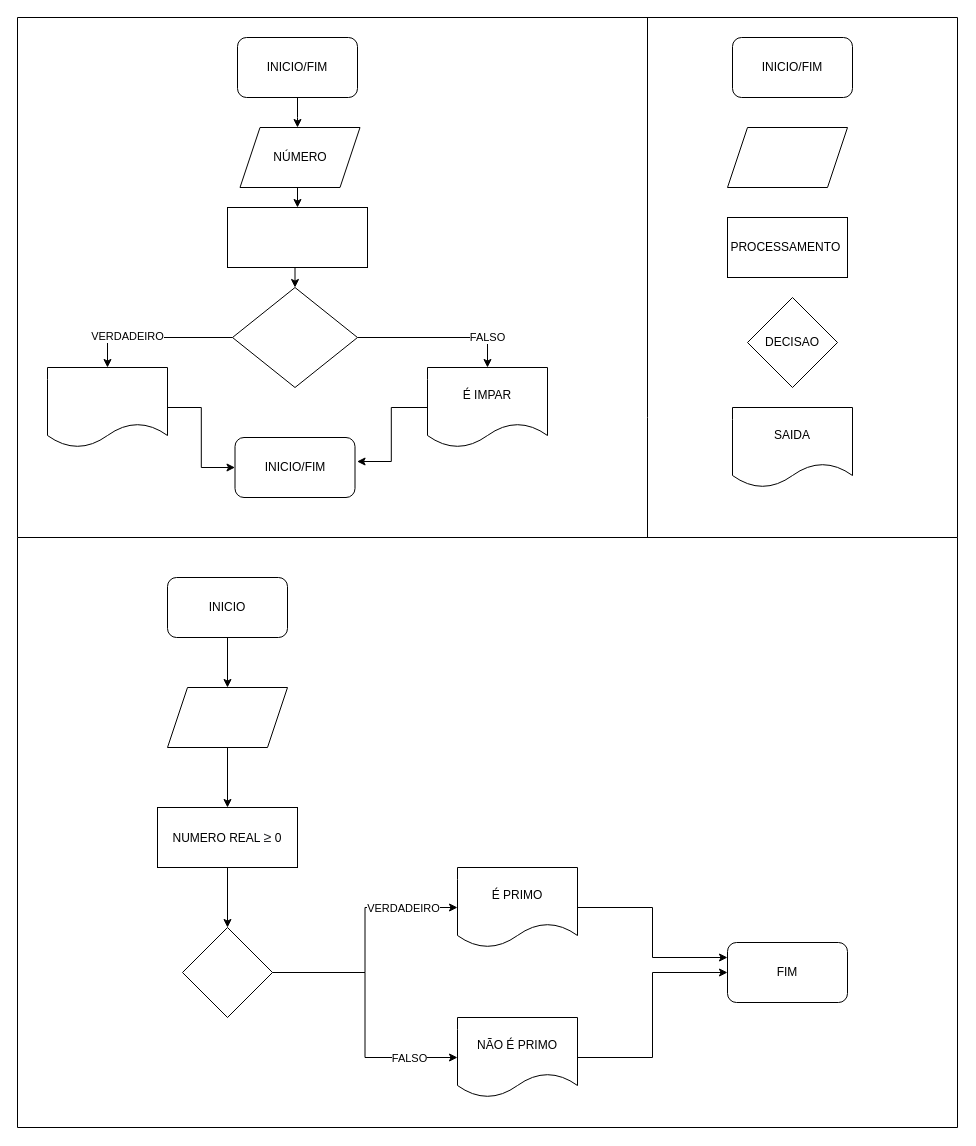
The diagram is 976 pixels wide and 1146 high, and some of its shapes have lost their labels. Here are the shapes that lost their labels. From the top down, the centre of each, then its label:
At (787,157): "ENTRADA".
At (297,237): "DIVISÃO=NUMERO/2".
At (295,337): "RESTO DA DIVISÃO É ZERO?".
At (107,407): "É PAR".
At (227,717): "N1<N2<N3".
At (227,972): "É NUMERO PRIMO?".
